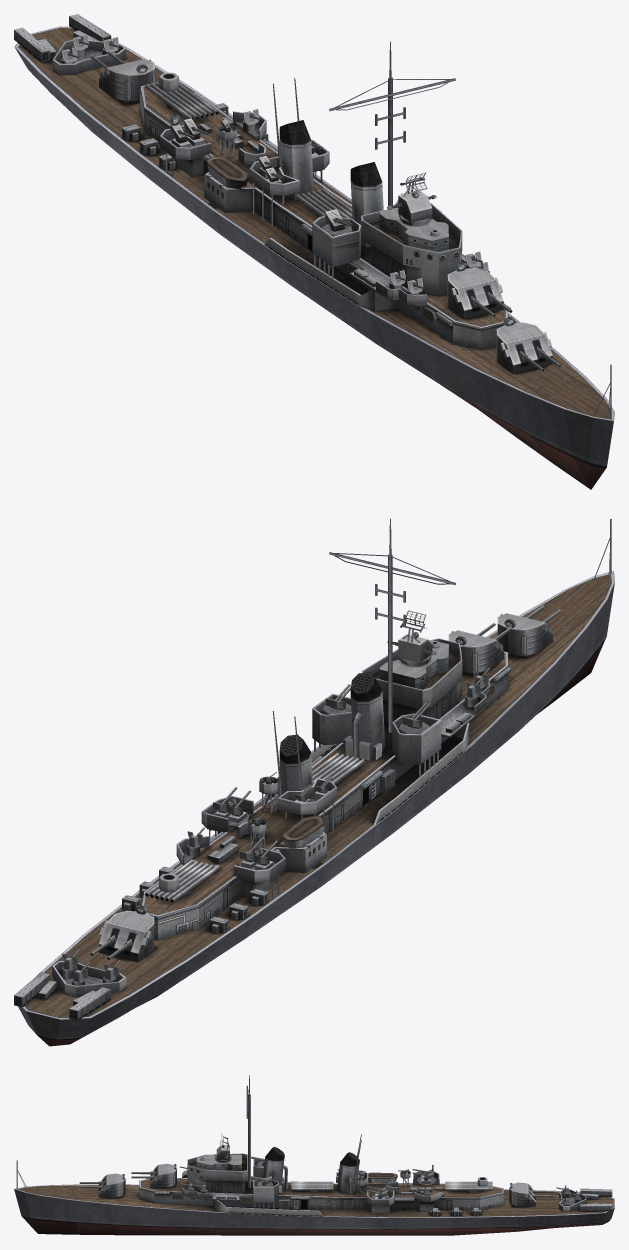
The model's file is Gearing.fbx.
The picture shows the model from 3 angles, top to bottom: view 1: azimuth 30°, elevation 25°; view 2: azimuth 150°, elevation 25°; view 3: azimuth 270°, elevation 25°; orthographic projection. The views are drawn at different scales.
Visible parts, largest first — view 1: Body, M_Cannon02, M_Cannon01, M_Cannon03, S_Cannon08; view 2: Body, M_Cannon03, M_Cannon01, M_Cannon02, S_Cannon07; view 3: Body, M_Cannon01, M_Cannon03, M_Cannon02, S_Cannon08.
Part boxes in pixels (x1,y1,x2,y2): Body: (14, 14, 614, 489); M_Cannon02: (447, 262, 503, 319); M_Cannon01: (496, 317, 552, 373); M_Cannon03: (99, 58, 154, 102); S_Cannon08: (169, 115, 208, 147); Body: (14, 518, 614, 1046); M_Cannon03: (99, 905, 154, 962); M_Cannon01: (497, 613, 552, 656); M_Cannon02: (448, 630, 503, 673); S_Cannon07: (213, 787, 251, 827); Body: (14, 1075, 614, 1235); M_Cannon01: (99, 1173, 125, 1197); M_Cannon03: (509, 1182, 535, 1206); M_Cannon02: (150, 1163, 176, 1187); S_Cannon08: (412, 1165, 436, 1185).
Bounding box in the file's own units: 15.2 × 35.17 × 119.
1 material, 1 textured.
